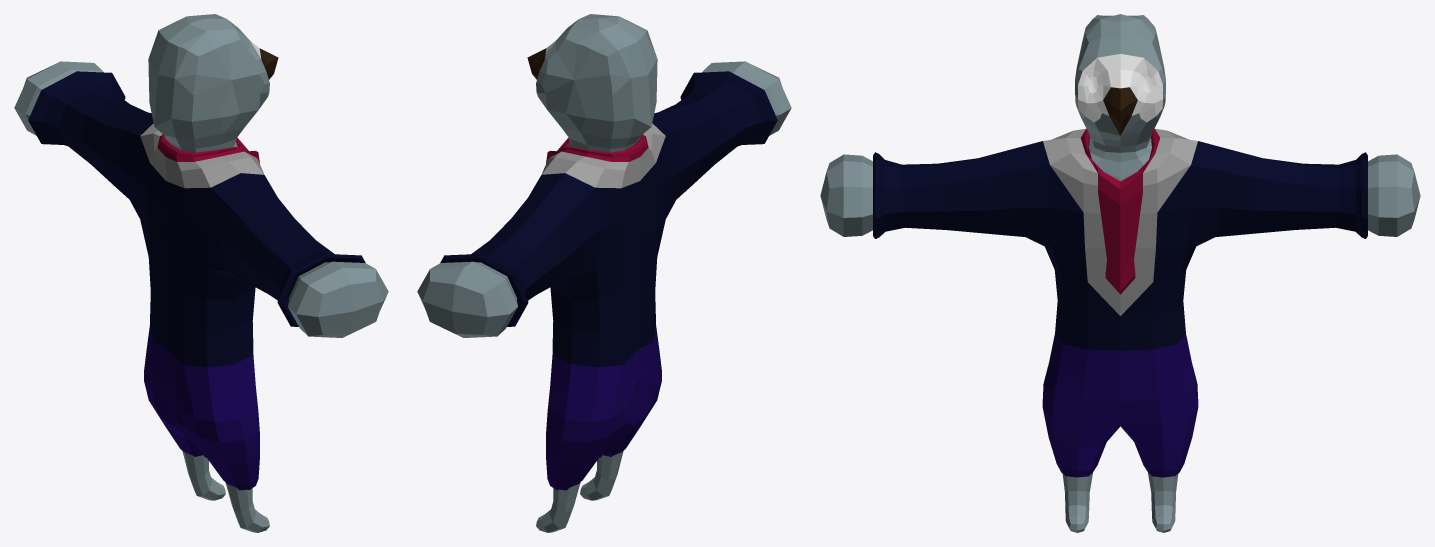
File: Buho.fbx
3 renders of one model, left to right at view 1: azimuth 30°, elevation 25°; view 2: azimuth 150°, elevation 25°; view 3: azimuth 270°, elevation 25°, orthographic.
Parts seen in each view (by area): view 1: Chaqueta.002, Cuerpo.002; view 2: Chaqueta.002, Cuerpo.002; view 3: Chaqueta.002, Cuerpo.002.
Part boxes in pixels (x1,y1,x2,y2): Chaqueta.002: [28, 71, 365, 490]; Cuerpo.002: [14, 14, 388, 532]; Chaqueta.002: [440, 71, 777, 490]; Cuerpo.002: [417, 14, 791, 532]; Chaqueta.002: [873, 128, 1367, 477]; Cuerpo.002: [820, 14, 1420, 532].
Size of the model in its own units: 83.47 by 320 by 351.
